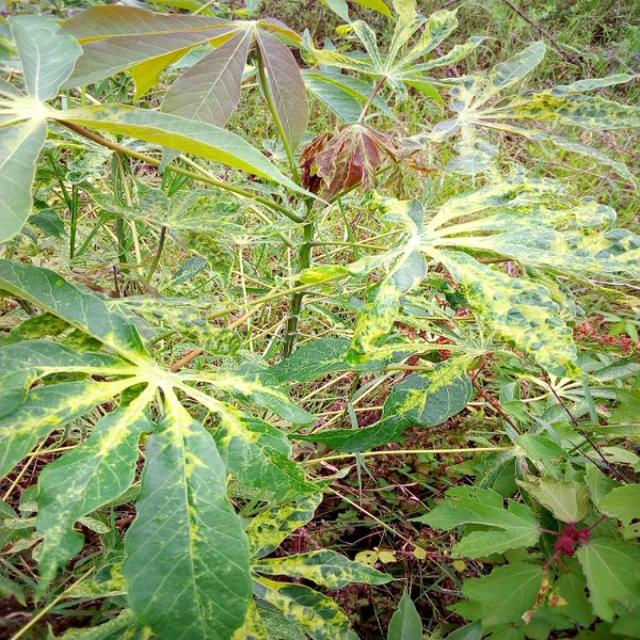cassava leaf: (0, 1, 638, 638), (121, 401, 253, 638)
